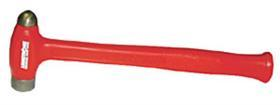hammer: (7, 8, 274, 92)
